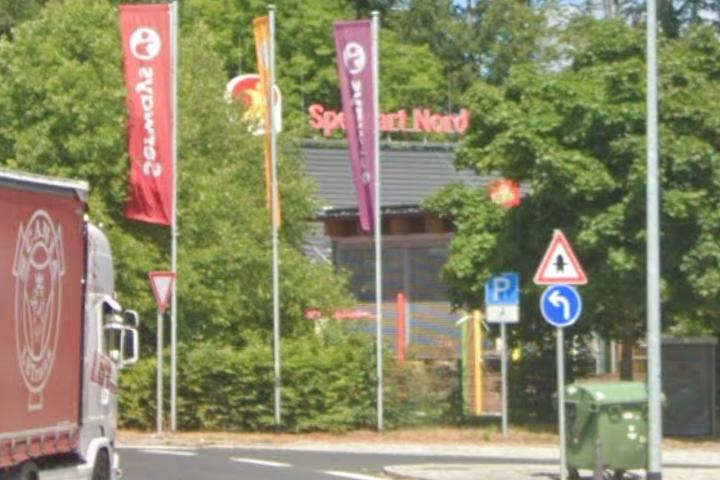traffic_sign: (534, 229, 588, 285), (538, 284, 583, 328), (483, 272, 520, 306), (149, 272, 177, 312)
vehicle: (1, 162, 144, 480)
